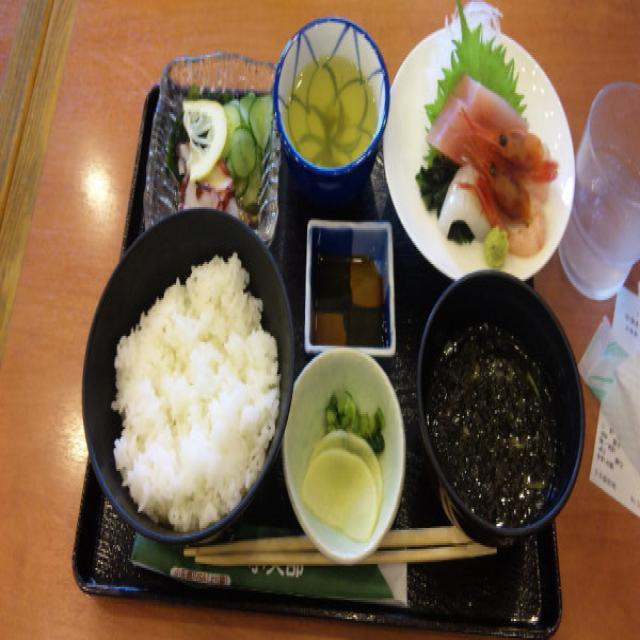Rice: (117, 246, 278, 514)
